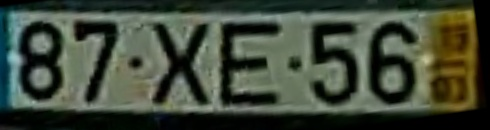5: (306, 19, 362, 112)
6: (365, 17, 421, 108)
7: (70, 16, 123, 107)
8: (15, 18, 66, 104)
E: (217, 20, 282, 112)
X: (148, 21, 212, 110)
